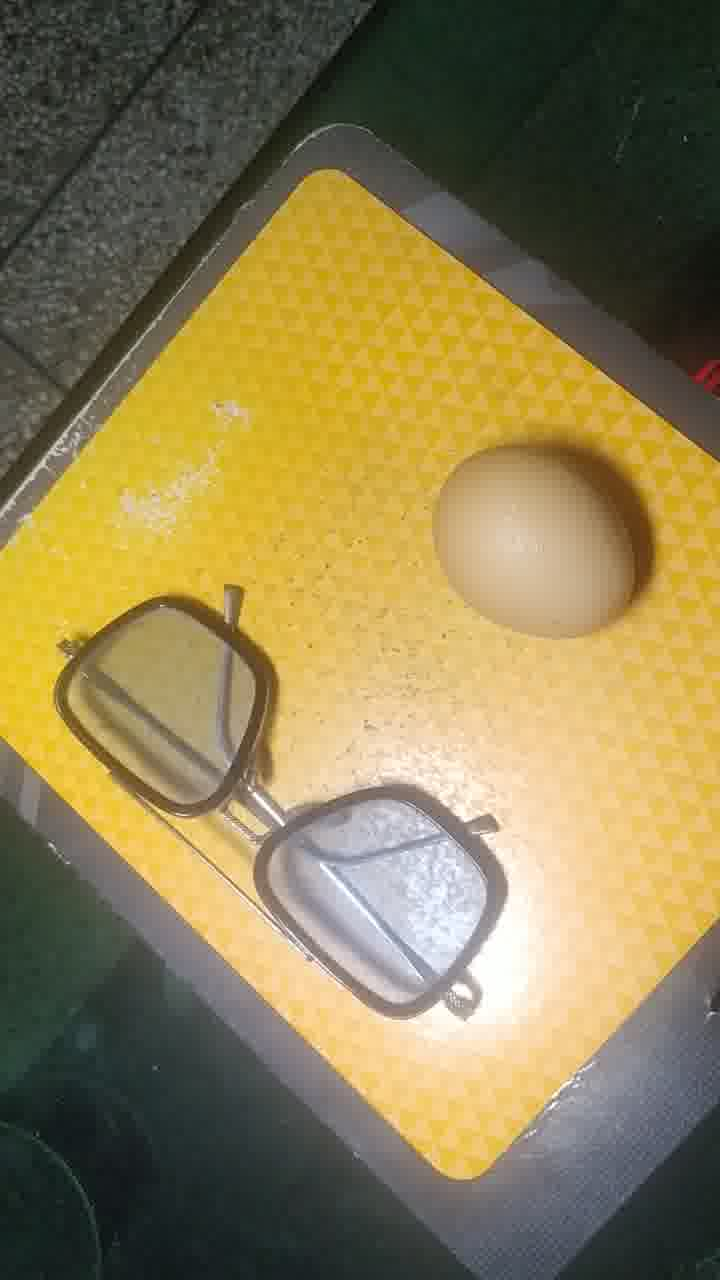egg: (426, 433, 657, 644)
sunglass: (46, 584, 506, 1096)
